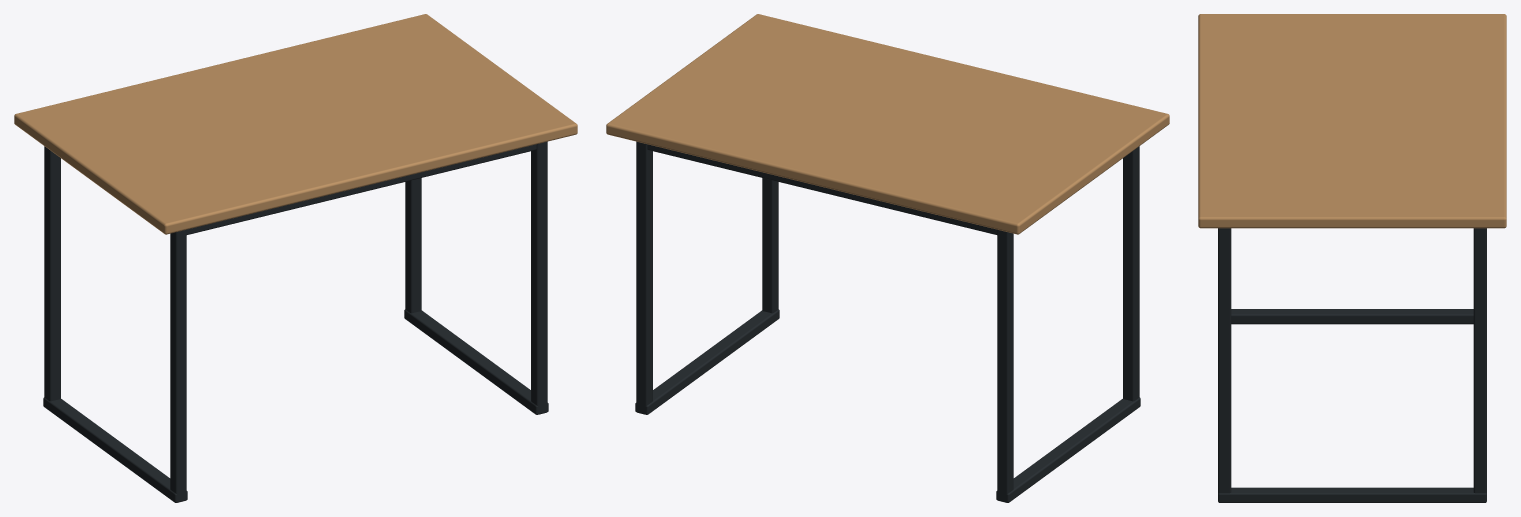
The model's file is meetingTable-3.glb.
3 views of the same model, side by side, from view 1: azimuth 30°, elevation 25°; view 2: azimuth 150°, elevation 25°; view 3: azimuth 270°, elevation 25° (orthographic).
Parts seen in each view (by area): view 1: meetingTable:3:archviz; view 2: meetingTable:3:archviz; view 3: meetingTable:3:archviz.
Part boxes in pixels (x1,y1,x2,y2): meetingTable:3:archviz: (14, 14, 577, 502); meetingTable:3:archviz: (606, 14, 1169, 502); meetingTable:3:archviz: (1198, 14, 1506, 502).
Bounding box in the file's own units: 1.1 × 0.74 × 0.6999.
